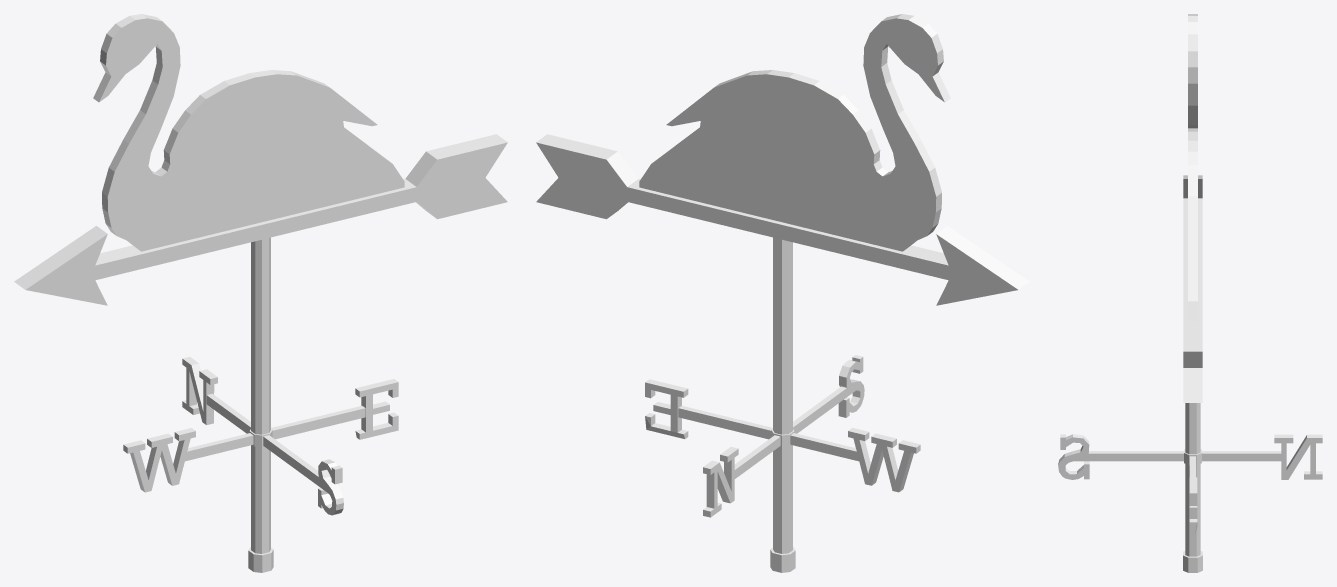
File: Prop_Weathervane_03.glb
3 views of the same model, side by side, from view 1: azimuth 30°, elevation 25°; view 2: azimuth 150°, elevation 25°; view 3: azimuth 270°, elevation 25° (orthographic). The views are drawn at different scales.
Visible parts, largest first — view 1: Prop_Weathervane_Top_03, Prop_Weathervane_03; view 2: Prop_Weathervane_Top_03, Prop_Weathervane_03; view 3: Prop_Weathervane_03, Prop_Weathervane_Top_03.
Boxes of the visible parts, box(x1,y1,x2,y2) form: Prop_Weathervane_Top_03: box(14, 14, 507, 305); Prop_Weathervane_03: box(123, 237, 398, 572); Prop_Weathervane_Top_03: box(536, 14, 1029, 305); Prop_Weathervane_03: box(645, 237, 920, 572); Prop_Weathervane_03: box(1058, 403, 1322, 572); Prop_Weathervane_Top_03: box(1183, 14, 1202, 402).
Bounding box in the file's own units: 1.04 × 1.2 × 0.5747.
Materials: 1 (1 with a texture image).
